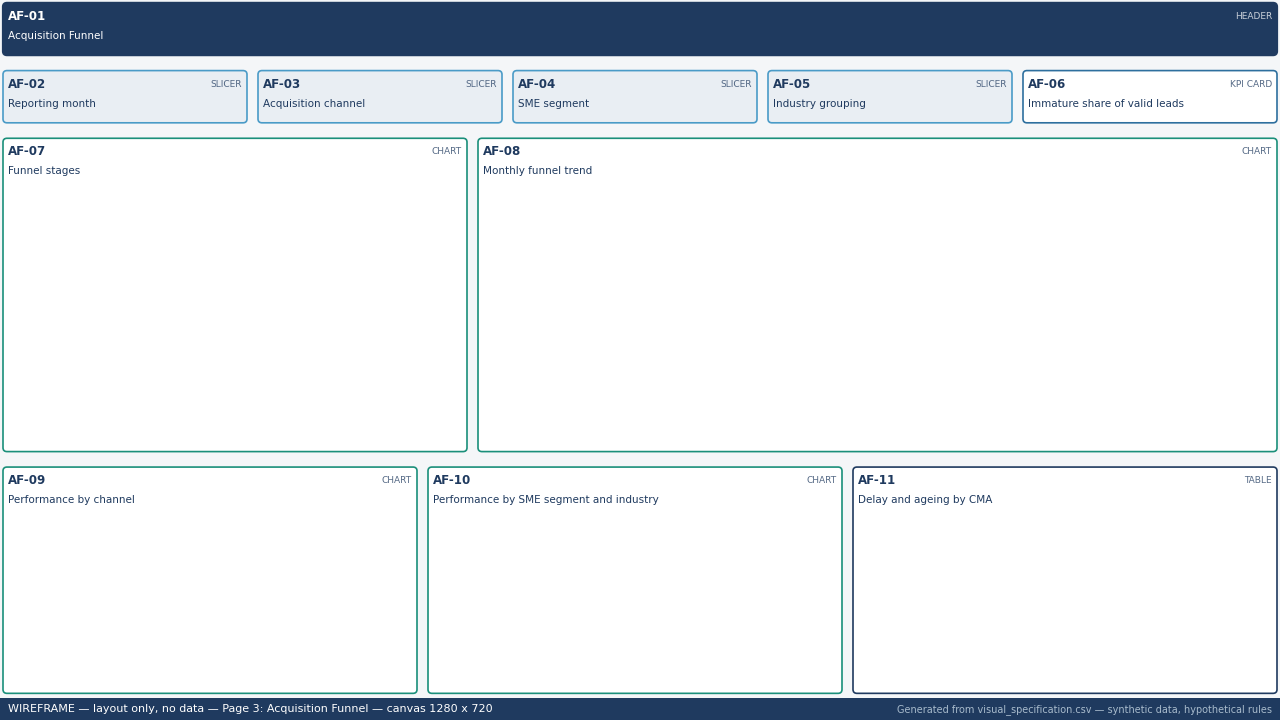

The dashboard page shown, as its layout file describes it:
{"tool":"powerbi","page":{"name":"Acquisition Funnel","canvas":[1920,1080],"ordinal":2},"visuals":[{"type":"textbox","box":[9.2,0,1910.4,84.7],"z":0},{"type":"slicer","fields":{"Values":["DimDate.Month Name"]},"box":[9.2,84.7,265,150.9],"z":1000},{"type":"slicer","fields":{"Values":["FunnelMonthly.channel_code"]},"box":[305.5,84.7,287.1,150.9],"z":2000},{"type":"slicer","fields":{"Values":["FunnelMonthly.sme_segment"]},"box":[625.8,84.7,287.1,150.9],"z":3000},{"type":"slicer","fields":{"Values":["FunnelMonthly.industry_label"]},"box":[936.8,84.7,524.5,150.9],"z":4000},{"type":"cardVisual","fields":{"Data":["_Measures.Share of Valid Leads Immature"]},"box":[1529.5,84.7,296.3,150.9],"z":5000},{"type":"funnel","title":"Acquisition Funnel","fields":{"Y":["_Measures.Captured Leads","_Measures.Valid Leads","_Measures.Assigned Leads","_Measures.Contacted Leads","_Measures.Qualified Leads (Mature)","_Measures.Converted Leads (Mature)"]},"box":[9.2,257.7,903.7,399.4],"z":6000},{"type":"lineChart","title":"Monthly Acquisition Trend","fields":{"Category":["DimDate.Month Name"],"Y":["_Measures.Captured Leads"],"Y2":["_Measures.Mature-Cohort Conversion Rate"]},"box":[942.3,257.7,977.3,399.4],"z":7000},{"type":"clusteredBarChart","title":"Channel Performance","fields":{"Category":["FunnelMonthly.channel_code"],"Y":["_Measures.Contact Rate","_Measures.Qualification Rate (Mature)","_Measures.Mature-Cohort Conversion Rate"]},"box":[9.2,681,653.4,399.4],"z":8000},{"type":"pivotTable","title":"Segment and Industry Performance","fields":{"Rows":["FunnelMonthly.sme_segment","FunnelMonthly.industry_label"],"Values":["_Measures.Contact Rate","_Measures.Qualification Rate (Mature)","_Measures.Mature-Cohort Conversion Rate"]},"box":[662.6,708.6,616.6,305.5],"z":9000},{"type":"lineChart","title":"First-Contact Delay Trend- Highest-Delay CMAs","fields":{"Category":["DimDate.Month Name"],"Series":["FunnelMonthly.cma_label_sgc2021"],"Y":["_Measures.Typical Hours to First Contact"]},"box":[1333,729,587,306],"z":10000}]}

Visuals, with their boxes in screenshot pixels (x1, y1, x2, y2), scaled from the page's 1920x1080 canvas onto the 1280x720 screenshot:
textbox: box=[6, 0, 1279, 56]
slicer - DimDate.Month Name: box=[6, 56, 183, 157]
slicer - FunnelMonthly.channel_code: box=[204, 56, 395, 157]
slicer - FunnelMonthly.sme_segment: box=[417, 56, 609, 157]
slicer - FunnelMonthly.industry_label: box=[625, 56, 974, 157]
cardVisual - _Measures.Share of Valid Leads Immature: box=[1020, 56, 1217, 157]
"Acquisition Funnel" funnel: box=[6, 172, 609, 438]
"Monthly Acquisition Trend" lineChart: box=[628, 172, 1279, 438]
"Channel Performance" clusteredBarChart: box=[6, 454, 442, 719]
"Segment and Industry Performance" pivotTable: box=[442, 472, 853, 676]
"First-Contact Delay Trend- Highest-Delay CMAs" lineChart: box=[889, 486, 1279, 690]
